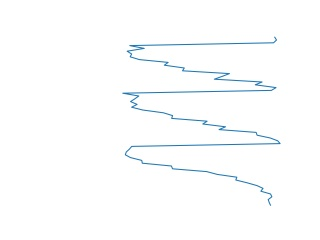distributaryMouthBar: (119, 35, 283, 208)
